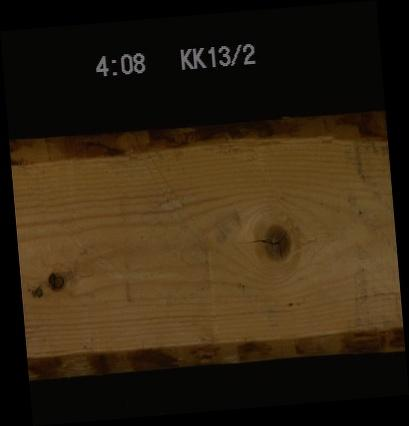sound_knot: (258, 220, 294, 263)
wave: (10, 124, 386, 162), (27, 329, 403, 364)
